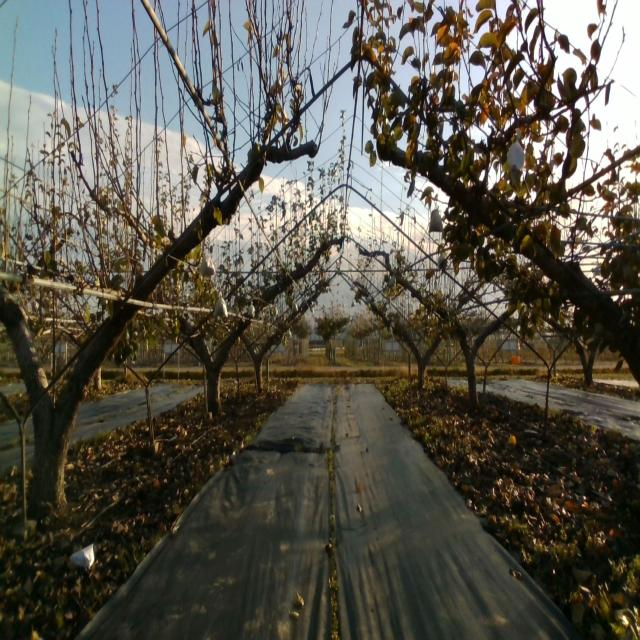pearbags: (506, 126, 524, 172), (200, 249, 216, 276), (213, 290, 228, 318), (429, 208, 444, 233)
